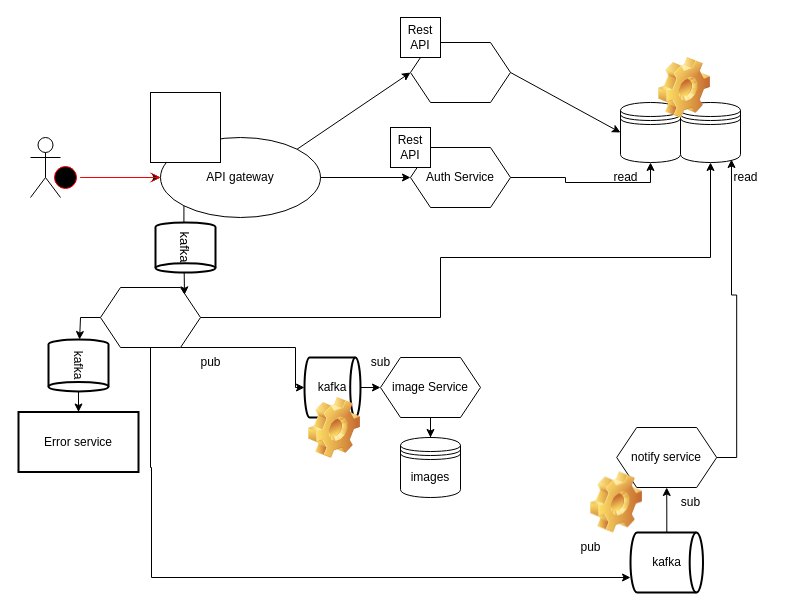
Some shapes in this 787 by 611 pixel diagram are drawn without their labels. The shapes that lost their labels are listed below. From the top down, each one's centre as x and y in pixels, then its label:
the point at 460,72: User Service
the point at 185,127: WebSoket
the point at 650,132: Users
the point at 710,132: Posts
the point at 45,167: Actor
the point at 150,317: Post service
